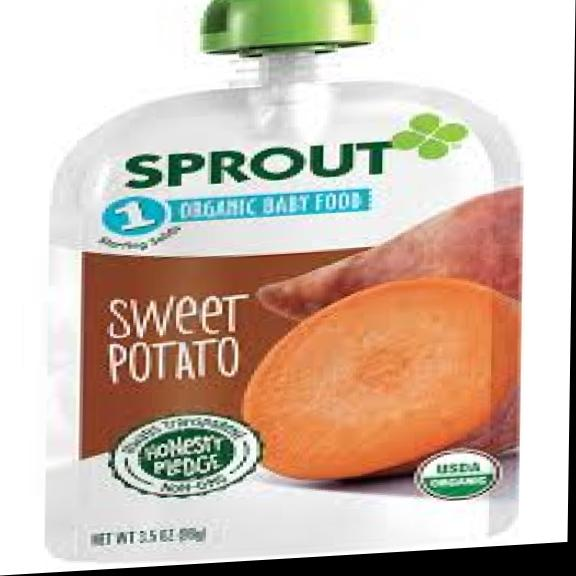Plastik: (68, 0, 537, 566)
